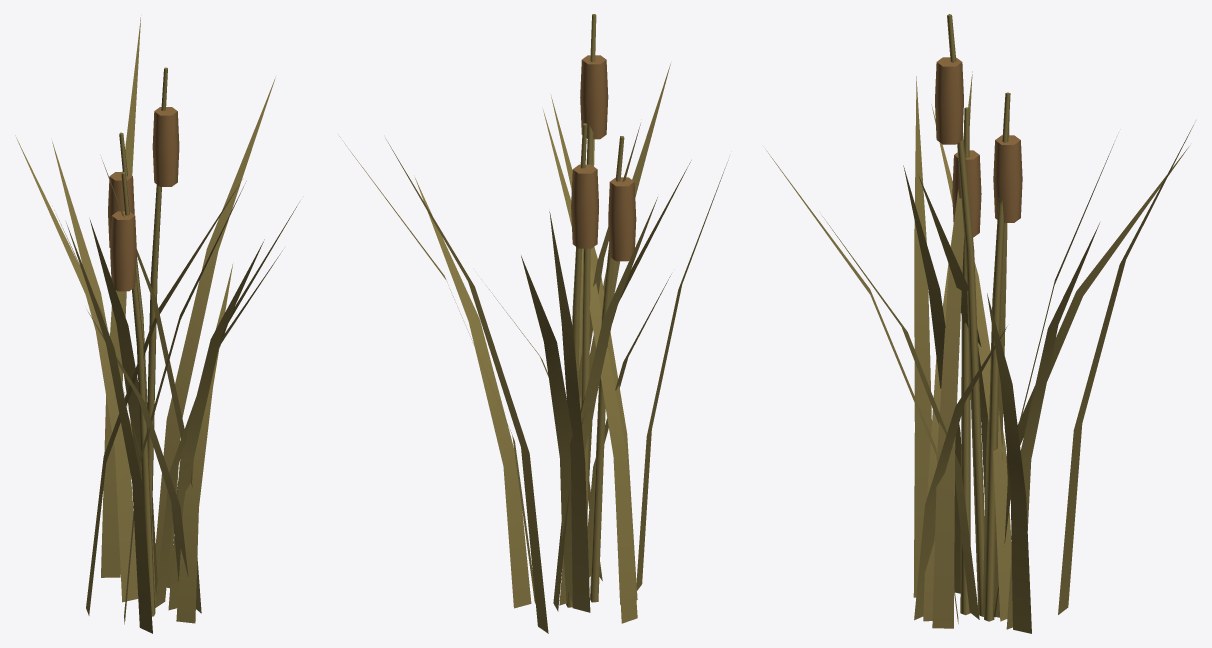
Rendered from cattails_1_burnt1.glb.
The picture shows the model from 3 angles, left to right: view 1: azimuth 30°, elevation 25°; view 2: azimuth 150°, elevation 25°; view 3: azimuth 270°, elevation 25°; orthographic projection. The views are drawn at different scales.
Parts seen in each view (by area): view 1: cattails_1_burnt1; view 2: cattails_1_burnt1; view 3: cattails_1_burnt1.
Part boxes in pixels (bbox=[...]): cattails_1_burnt1: bbox=[15, 17, 299, 633]; cattails_1_burnt1: bbox=[339, 14, 728, 633]; cattails_1_burnt1: bbox=[766, 14, 1193, 633].
Bounding box in the file's own units: 0.8691 × 1.54 × 1.02.
